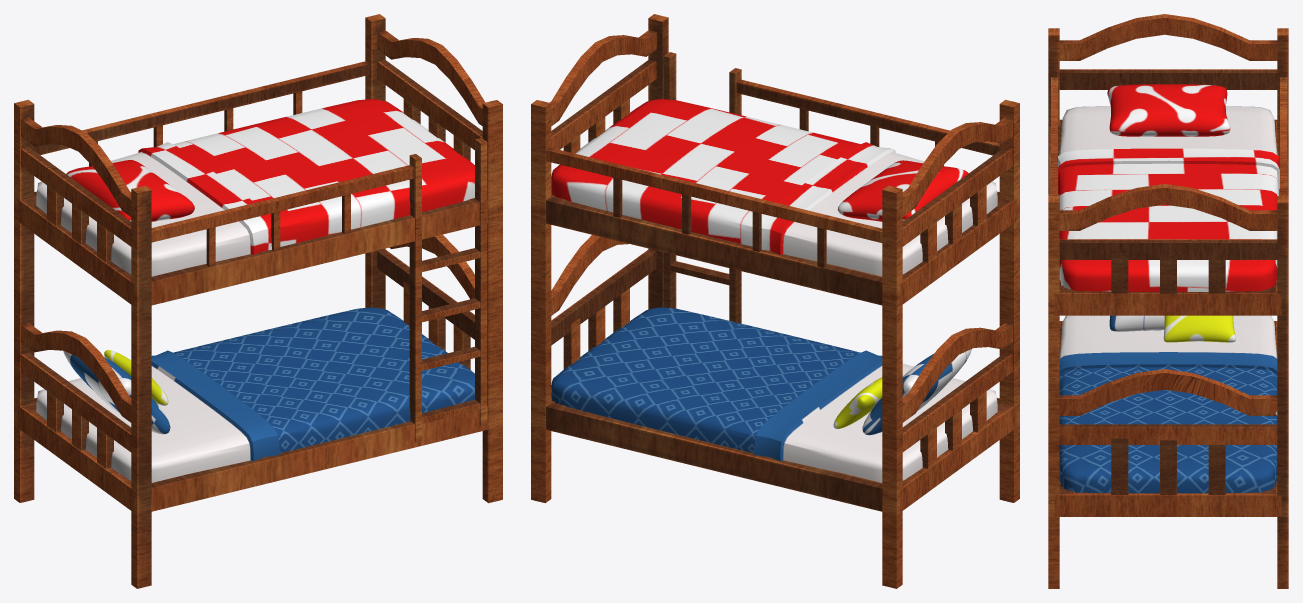
The model's file is obj_bunk_bed_6d6333.glb.
The picture shows the model from 3 angles, left to right: view 1: azimuth 30°, elevation 25°; view 2: azimuth 150°, elevation 25°; view 3: azimuth 270°, elevation 25°; orthographic projection. The views are drawn at different scales.
Parts seen in each view (by area): view 1: obj_bunk_bed_6d6333; view 2: obj_bunk_bed_6d6333; view 3: obj_bunk_bed_6d6333.
Boxes of the visible parts, x1,y1,x2,y2 form: obj_bunk_bed_6d6333: (14, 14, 502, 588); obj_bunk_bed_6d6333: (531, 14, 1019, 588); obj_bunk_bed_6d6333: (1048, 14, 1288, 588).
Size of the model in its own units: 1.49 by 1.6 by 0.8693.
Materials: 1 (1 with a texture image).
